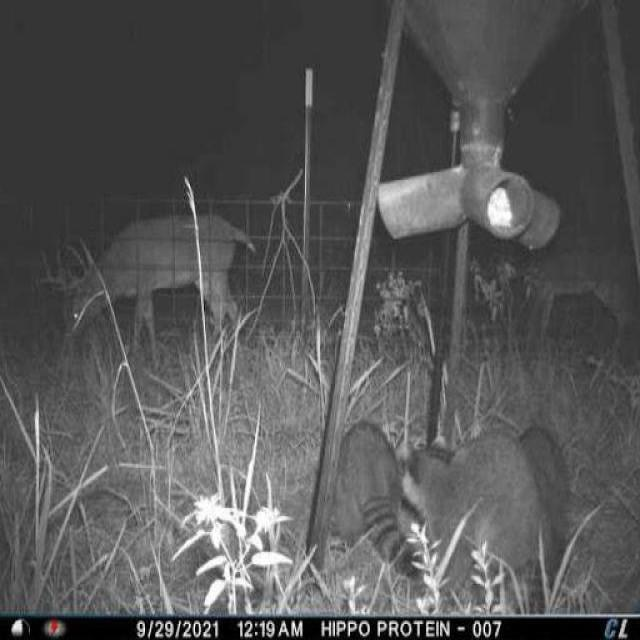deer: (44, 199, 254, 357), (522, 225, 638, 364)
